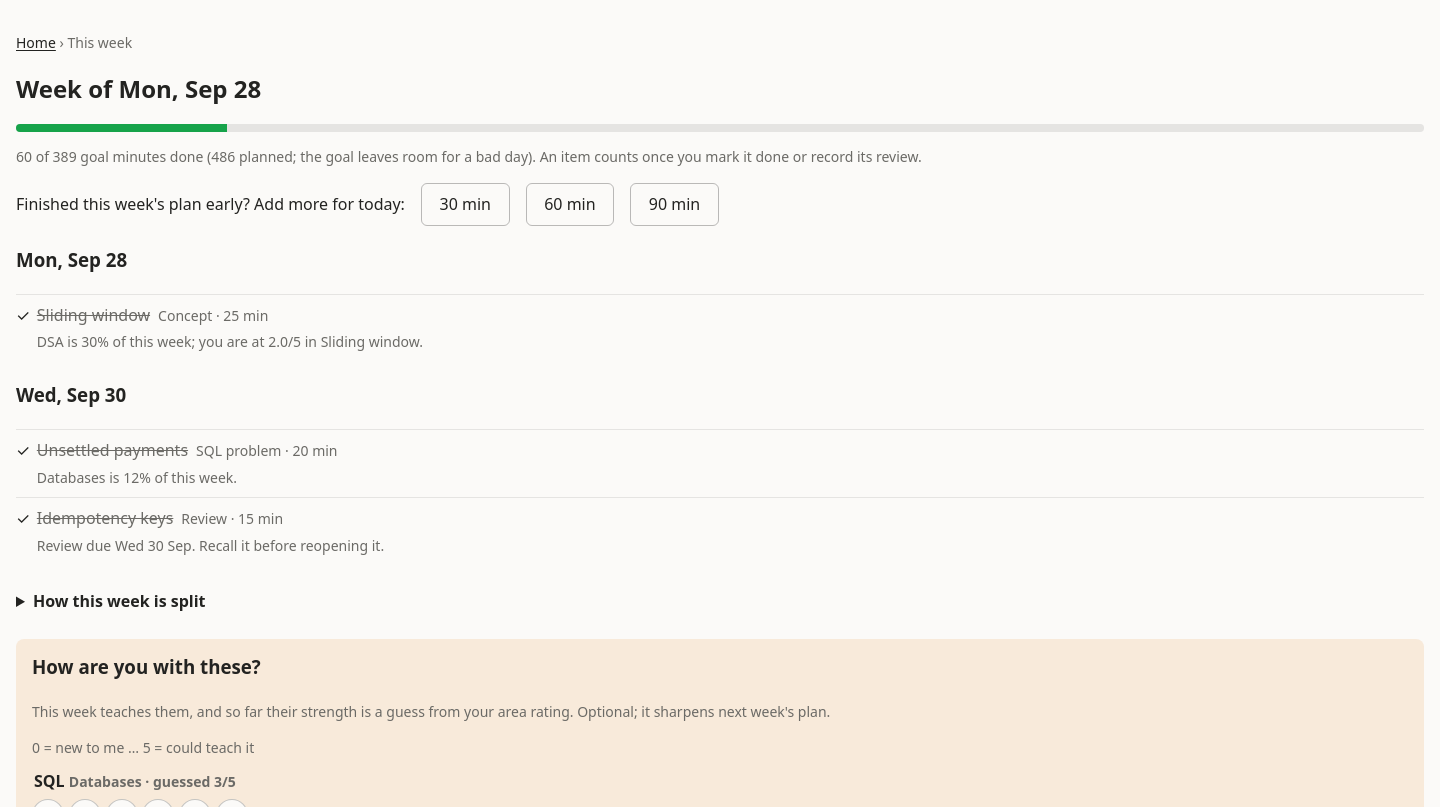
WeekPage › offers more for today once the whole plan is done, without touching the goal
Check: the element named "Add more to today" shows "Finished this week's plan early?", box 16,193 -> 405,215
Click the button "60 min": (570, 204) 526,183 -> 614,226
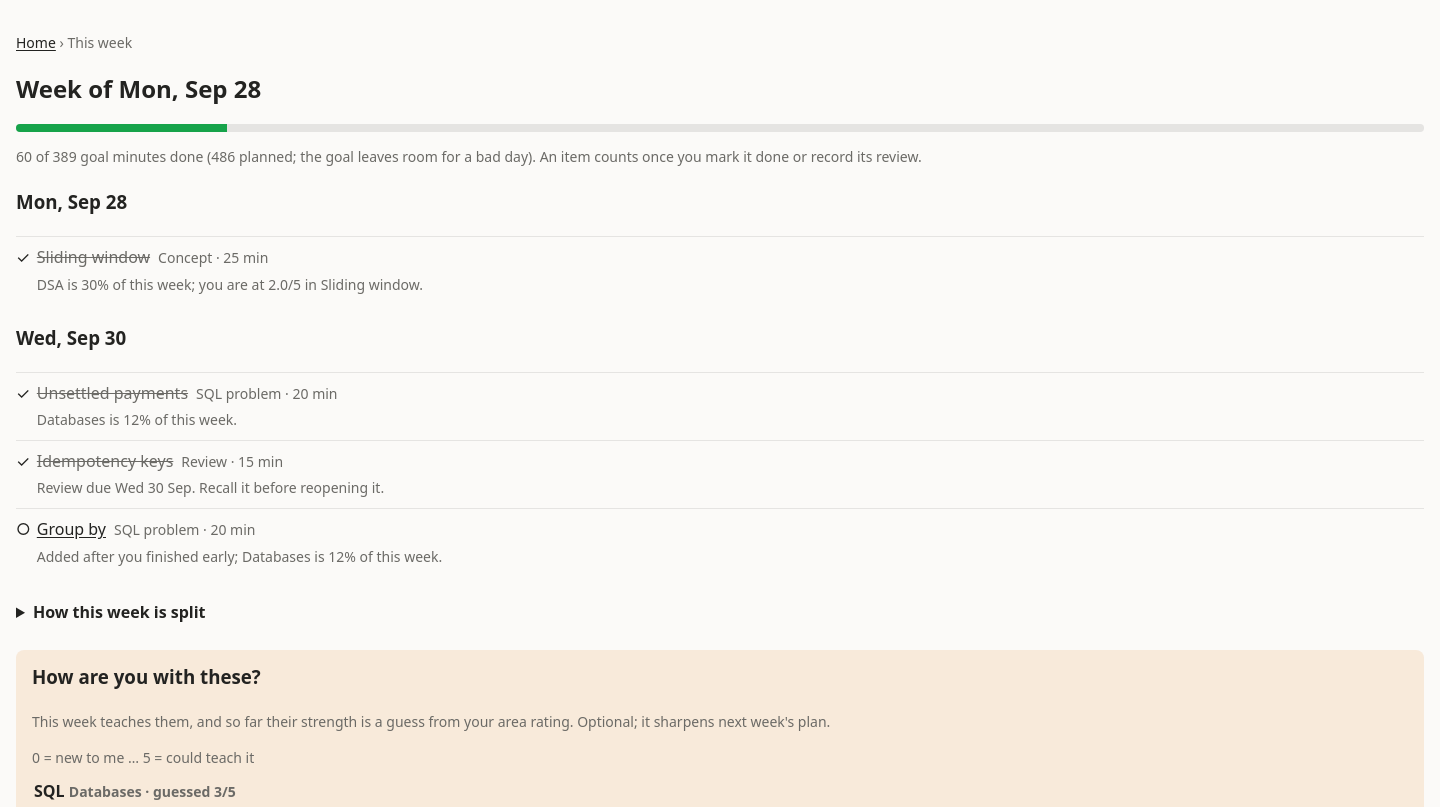
Check: the text "60 of 389 goal minutes done" is shown, box 16,147 -> 922,166
Check: the link "Group by" is shown, box 37,517 -> 106,542
